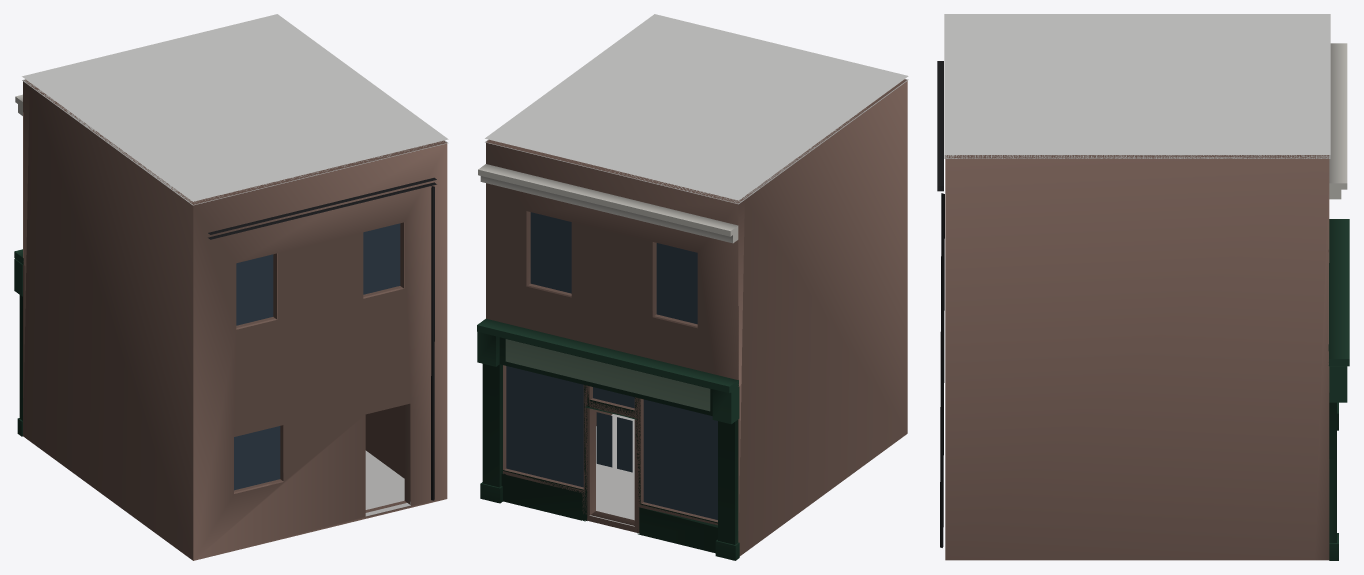
File: bookshop_mirror.glb
3 views of the same model, side by side, from view 1: azimuth 30°, elevation 25°; view 2: azimuth 150°, elevation 25°; view 3: azimuth 270°, elevation 25° (orthographic). The views are drawn at different scales.
Parts seen in each view (by area): view 1: bookshop_mirror; view 2: bookshop_mirror; view 3: bookshop_mirror.
Boxes of the visible parts, x1,y1,x2,y2 form: bookshop_mirror: (14, 14, 448, 560); bookshop_mirror: (477, 14, 908, 560); bookshop_mirror: (937, 14, 1349, 560).
Size of the model in its own units: 5.66 by 7.59 by 6.98.
